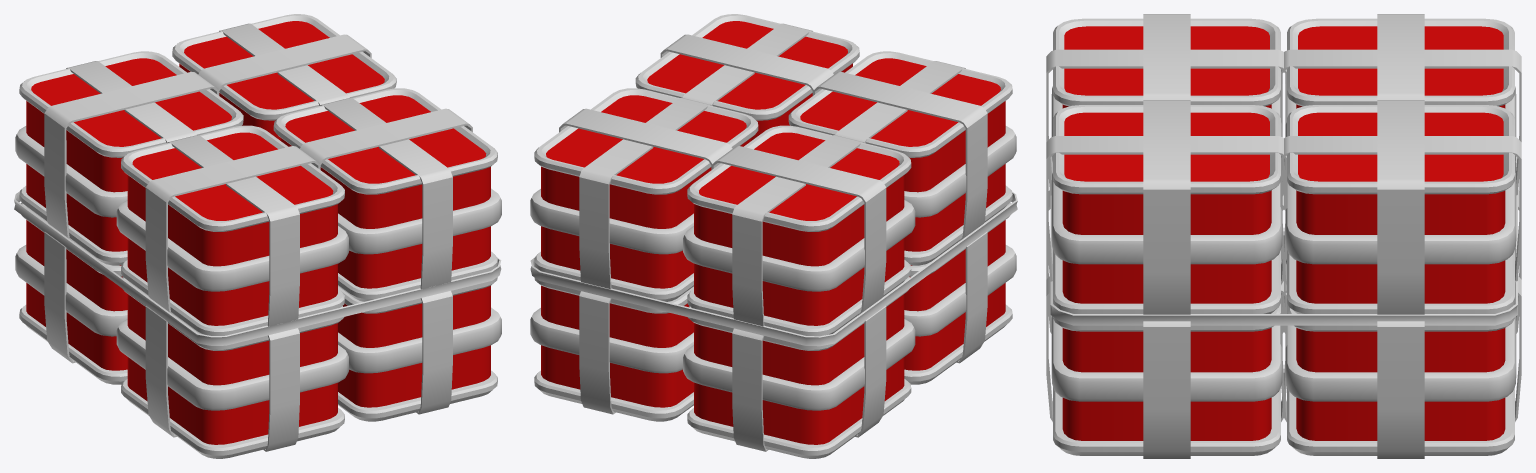
The picture shows the model from 3 angles, left to right: view 1: azimuth 30°, elevation 25°; view 2: azimuth 150°, elevation 25°; view 3: azimuth 270°, elevation 25°; orthographic projection. The views are drawn at different scales.
Visible parts, largest first — view 1: Box_2.001, Ropes, side_ropes; view 2: Box_2.001, Ropes, side_ropes; view 3: Box_2.001, Ropes, side_ropes.
Boxes of the visible parts, left/top/right/bottom form: Box_2.001: left=15, top=14, right=501, bottom=458; Ropes: left=44, top=23, right=472, bottom=451; side_ropes: left=14, top=191, right=501, bottom=345; Box_2.001: left=530, top=14, right=1016, bottom=458; Ropes: left=559, top=23, right=987, bottom=451; side_ropes: left=530, top=192, right=1017, bottom=346; Box_2.001: left=1051, top=18, right=1516, bottom=455; Ropes: left=1046, top=14, right=1521, bottom=458; side_ropes: left=1050, top=156, right=1517, bottom=325.
Size of the model in its own units: 203 by 175 by 132.
